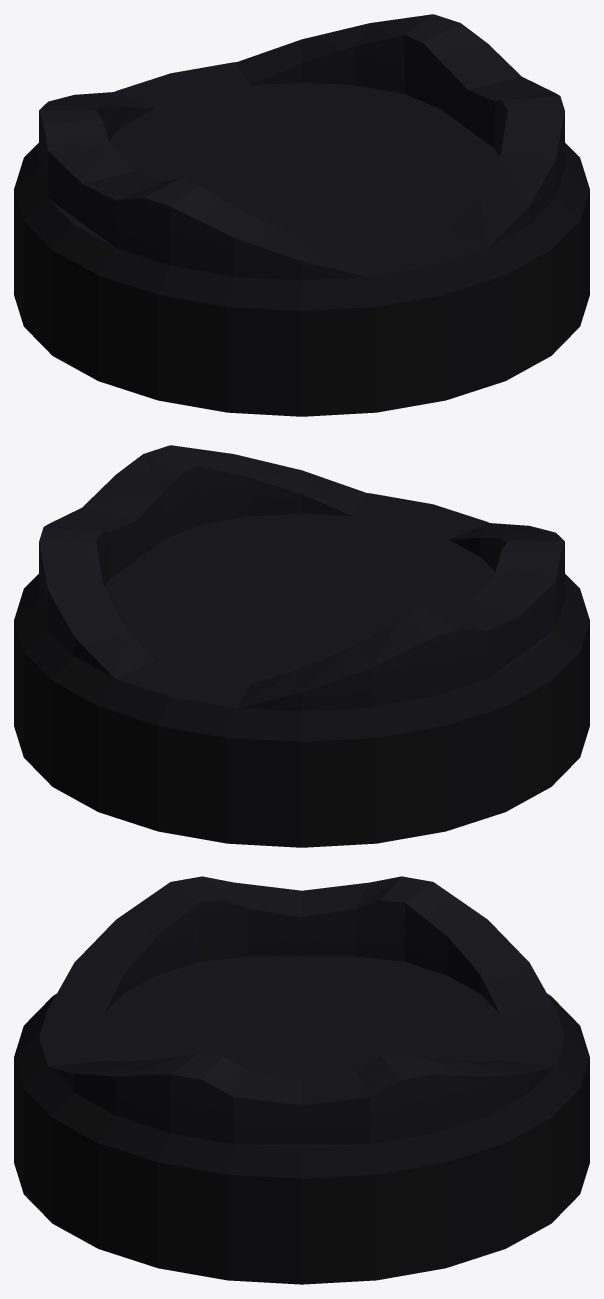
3 renders of one model, top to bottom at view 1: azimuth 30°, elevation 25°; view 2: azimuth 150°, elevation 25°; view 3: azimuth 270°, elevation 25°, orthographic.
Parts seen in each view (by area): view 1: Base_1A_Rotor_Object; view 2: Base_1A_Rotor_Object; view 3: Base_1A_Rotor_Object.
Boxes of the visible parts, left/top/right/bottom form: Base_1A_Rotor_Object: left=14, top=14, right=589, bottom=416; Base_1A_Rotor_Object: left=14, top=445, right=589, bottom=847; Base_1A_Rotor_Object: left=14, top=876, right=589, bottom=1284.
Bounding box in the file's own units: 0.6 × 0.2123 × 0.6.
Materials: 1 (1 with a texture image).
